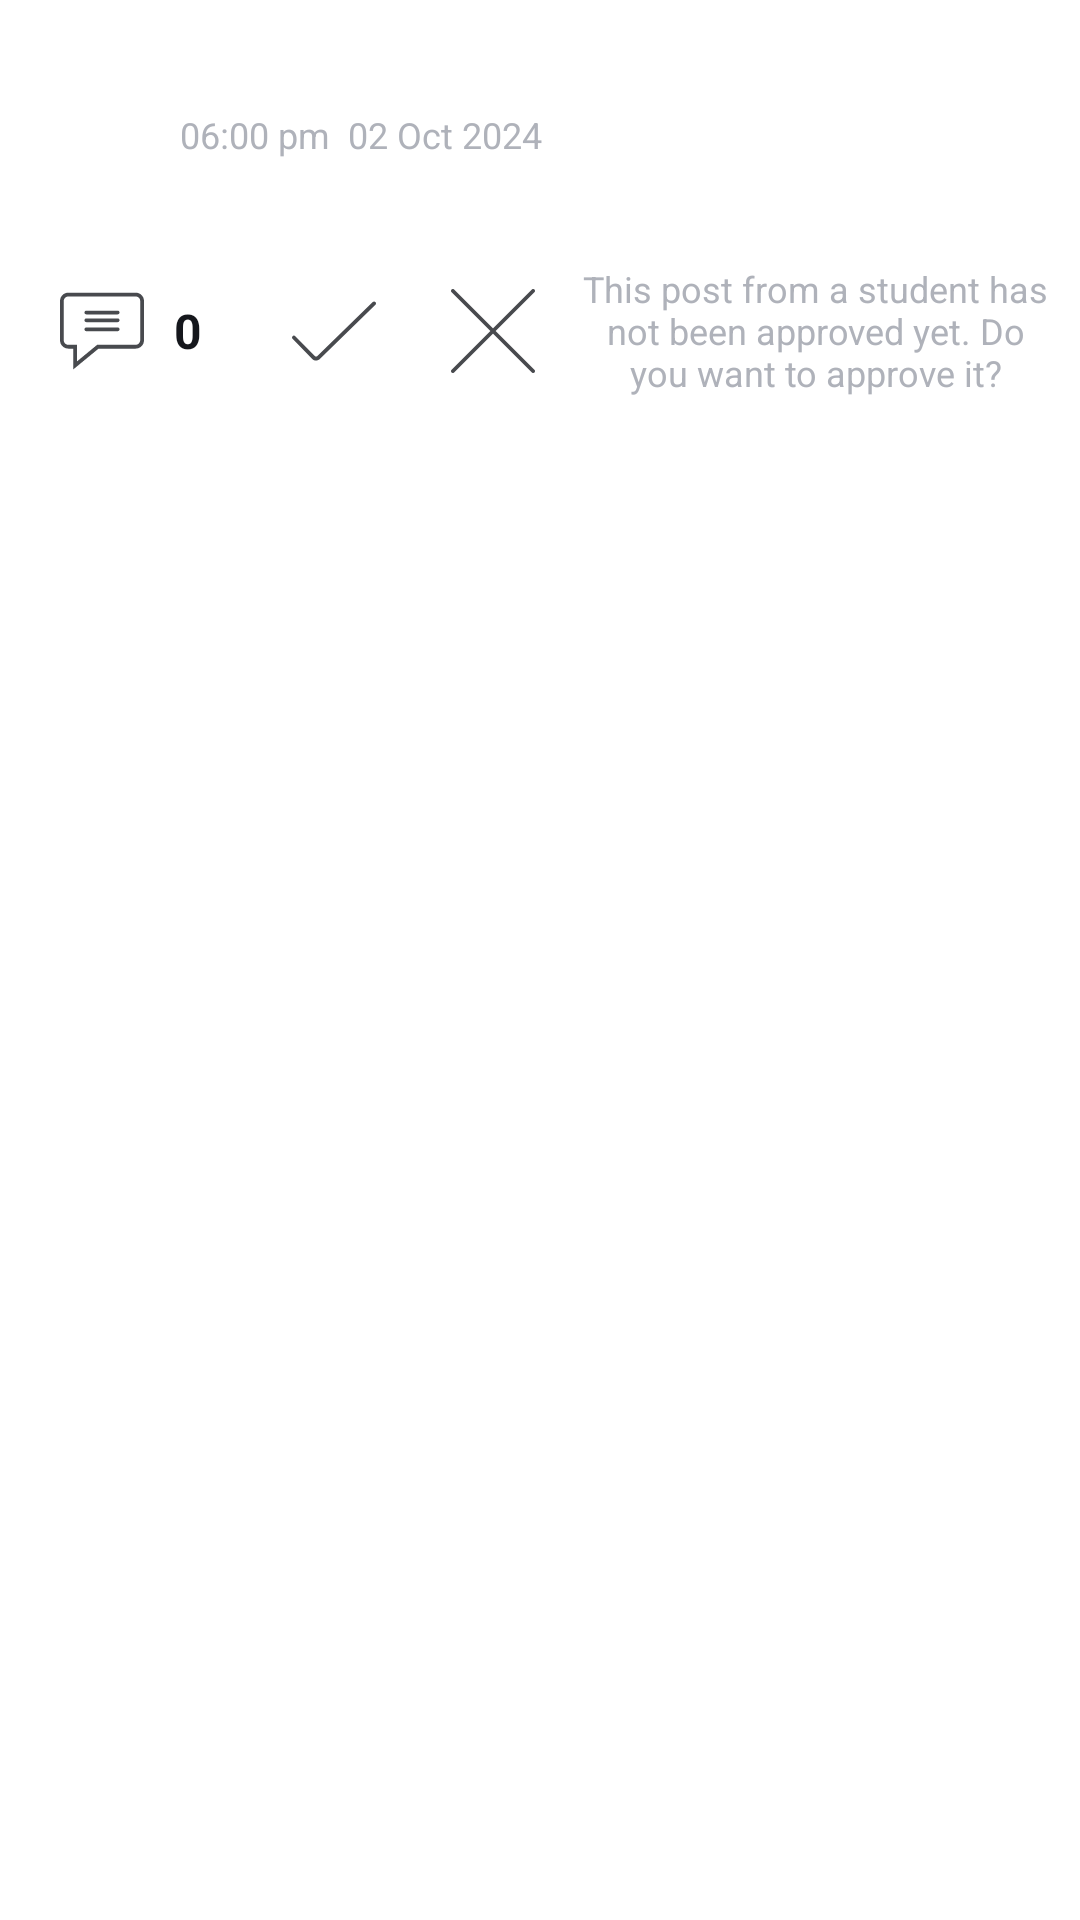

Named icons in this screenshot (1080w x 1920h) and their centers, (x=x, y=y):
comment: (x=102, y=330)
cross: (x=493, y=331)
tick: (x=334, y=331)
